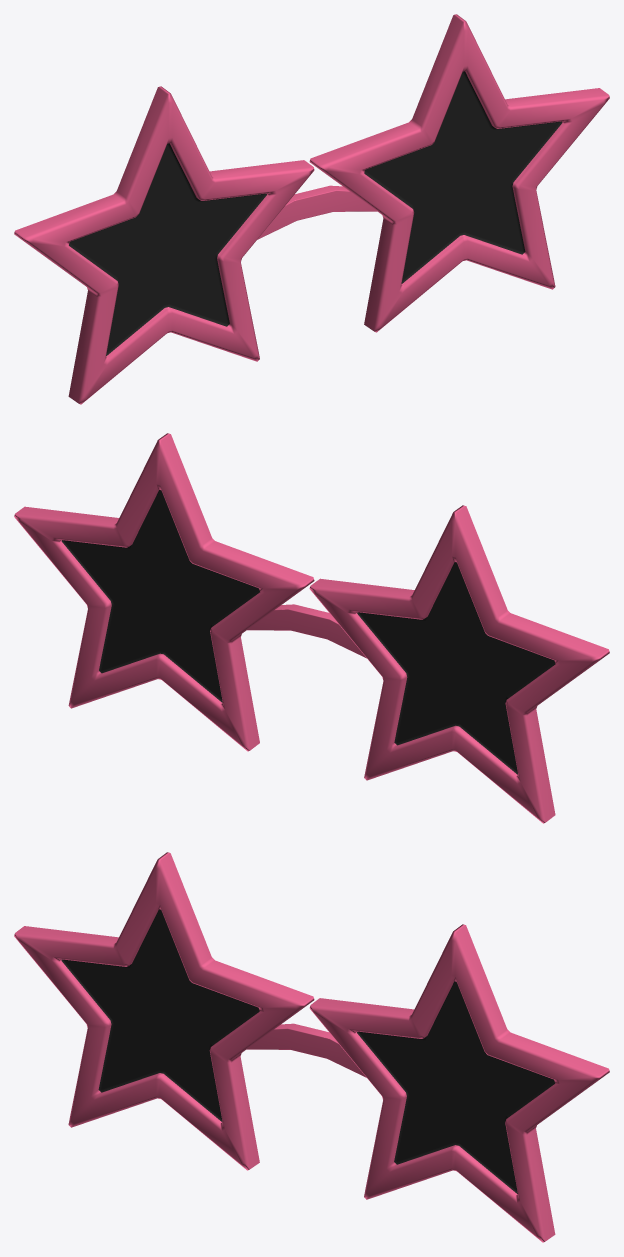
Rendered from Glasses_007.glb.
The picture shows the model from 3 angles, top to bottom: view 1: azimuth 30°, elevation 25°; view 2: azimuth 150°, elevation 25°; view 3: azimuth 330°, elevation 25°; orthographic projection.
Parts seen in each view (by area): view 1: Glasses_007; view 2: Glasses_007; view 3: Glasses_007.
Boxes of the visible parts, x1,y1,x2,y2 form: Glasses_007: (14, 14, 609, 404); Glasses_007: (14, 433, 609, 823); Glasses_007: (14, 852, 609, 1242).
Size of the model in its own units: 0.3469 by 0.1638 by 0.0126.
1 material, 1 textured.
